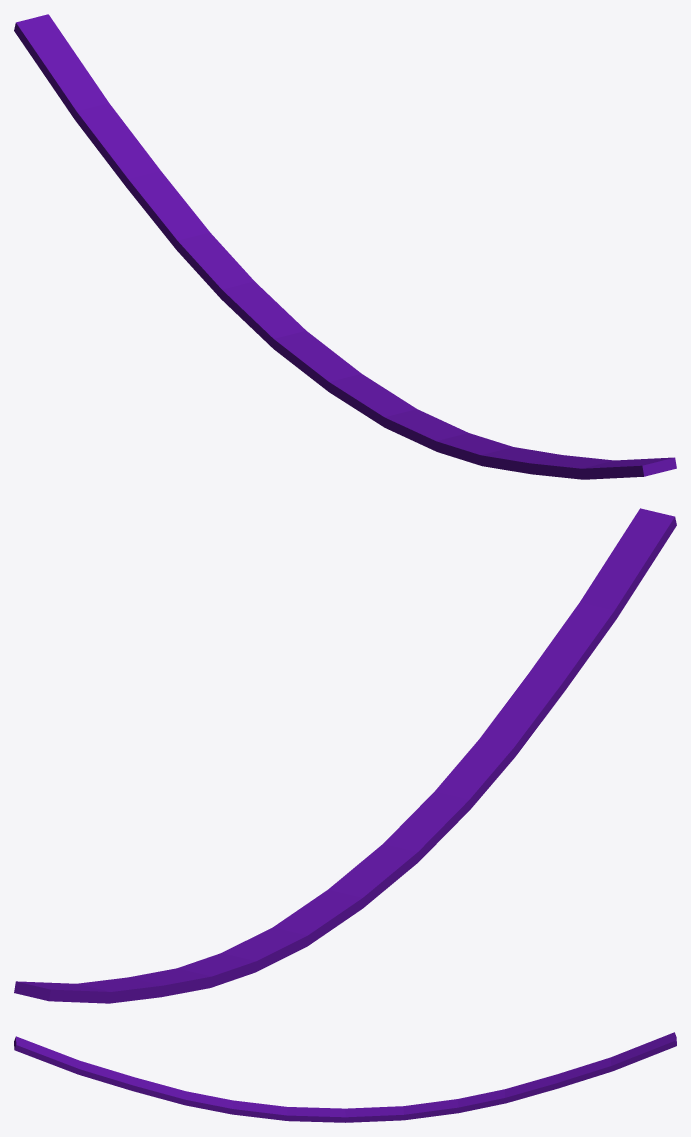
File: Tape_24.fbx
The picture shows the model from 3 angles, top to bottom: view 1: azimuth 30°, elevation 25°; view 2: azimuth 150°, elevation 25°; view 3: azimuth 270°, elevation 25°; orthographic projection. The views are drawn at different scales.
Visible parts, largest first — view 1: Tape_24; view 2: Tape_24; view 3: Tape_24.
Boxes of the visible parts, left/top/right/bottom form: Tape_24: left=14, top=14, right=676, bottom=479; Tape_24: left=14, top=508, right=676, bottom=1003; Tape_24: left=14, top=1032, right=676, bottom=1122.
Size of the model in its own units: 35.59 by 103 by 777.
